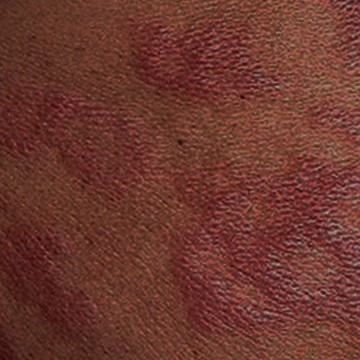Leprosy: (167, 154, 359, 348), (0, 77, 145, 196), (116, 18, 291, 114)
